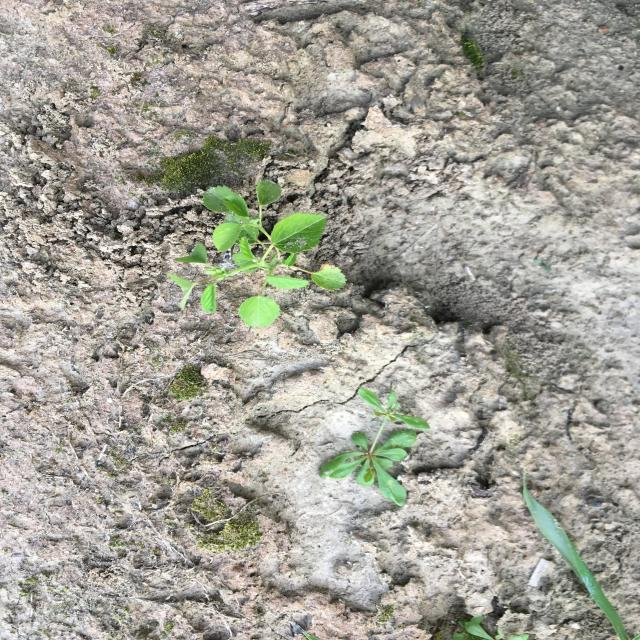Carpetweed: (316, 384, 434, 509)
PricklySida: (164, 178, 350, 330)
